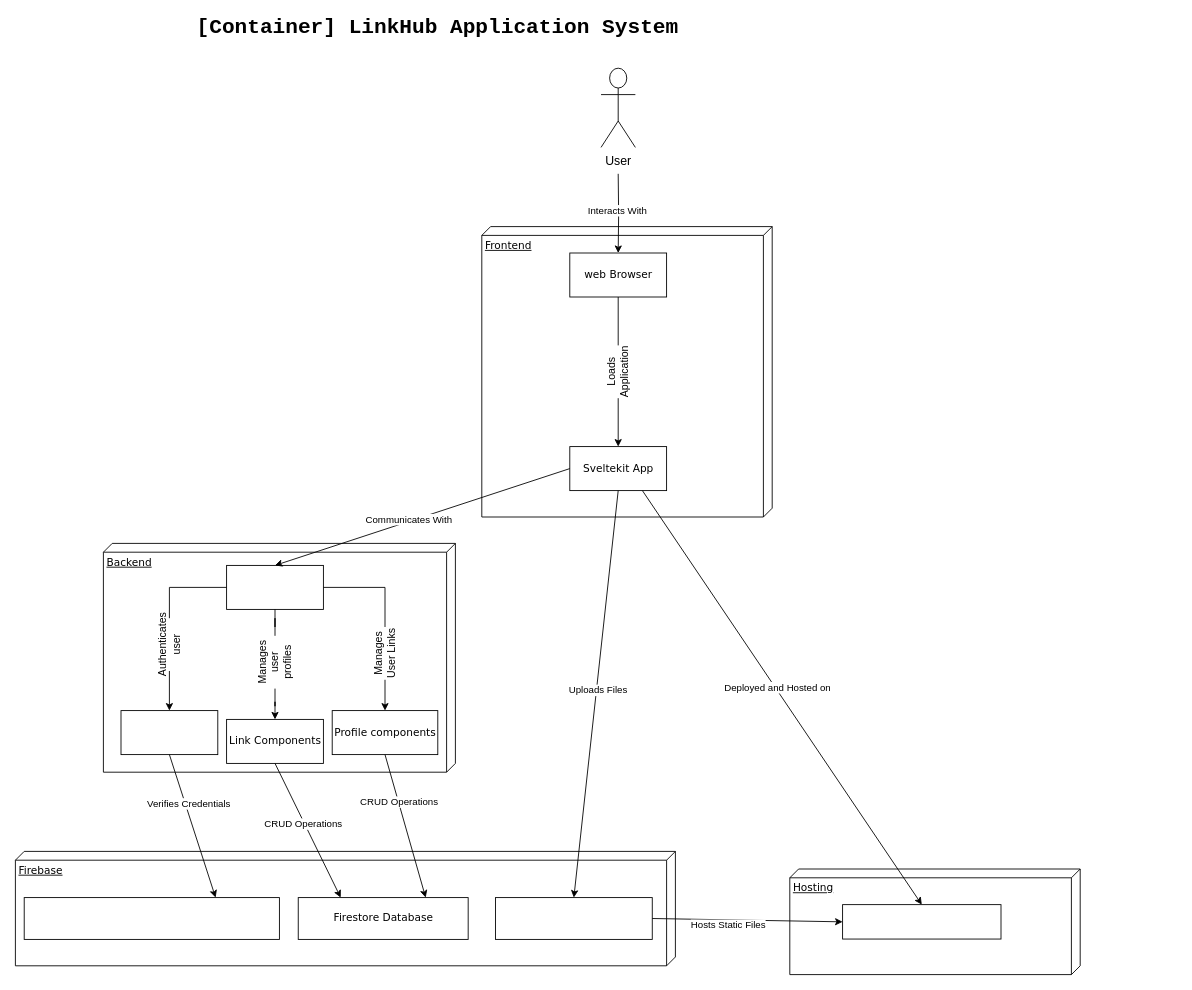
Image size: 1192x990. Some labels were removed from this diagram. The shapes that lost their labels are listed below. From the top down, each one's centre as x and y in pixels, then its label:
At point (274, 587): "Api Endpoints".
At point (169, 732): "Auth Components".
At point (151, 918): "Firebase Authentication".
At point (573, 918): "Firebase Storage".
At point (921, 921): "Hosting(Unnamed)".
